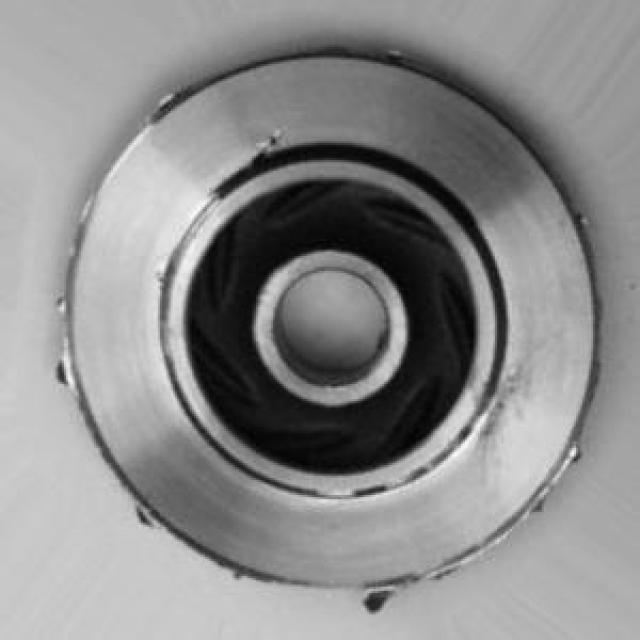Defect: (212, 126, 303, 190), (361, 576, 414, 623)
